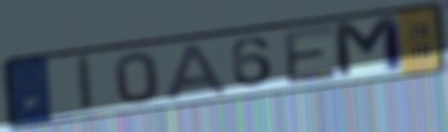0: (111, 48, 163, 107)
6: (229, 36, 276, 89)
A: (163, 41, 232, 103)
E: (281, 23, 340, 87)
I: (73, 53, 96, 115)
M: (330, 12, 409, 82)
